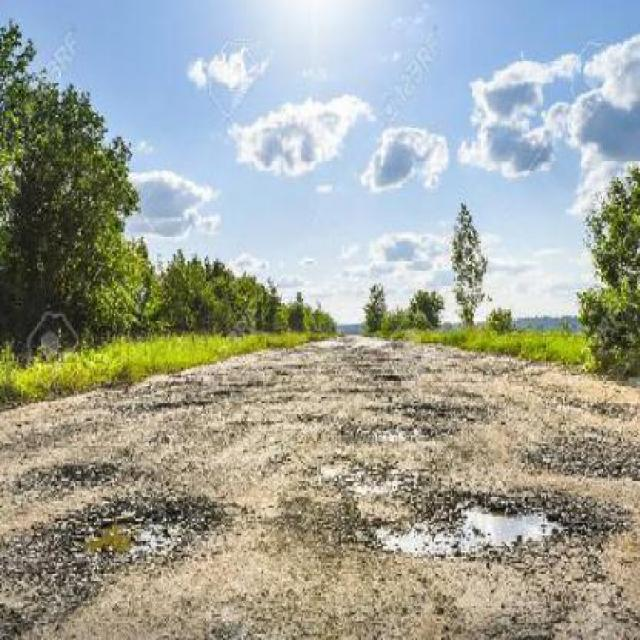Pothole: (356, 483, 604, 560), (42, 489, 216, 577), (42, 454, 122, 494)
